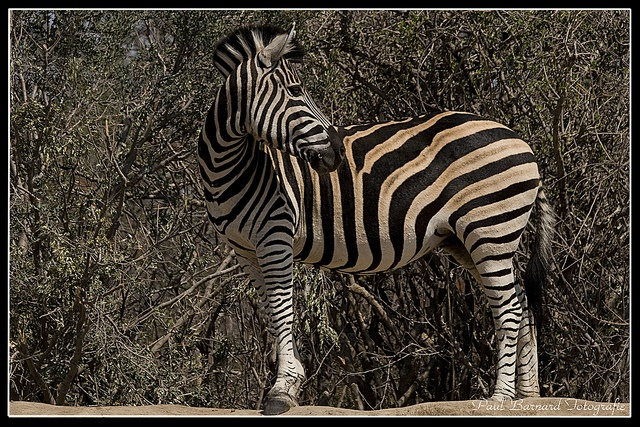zebra: (197, 21, 558, 414)
